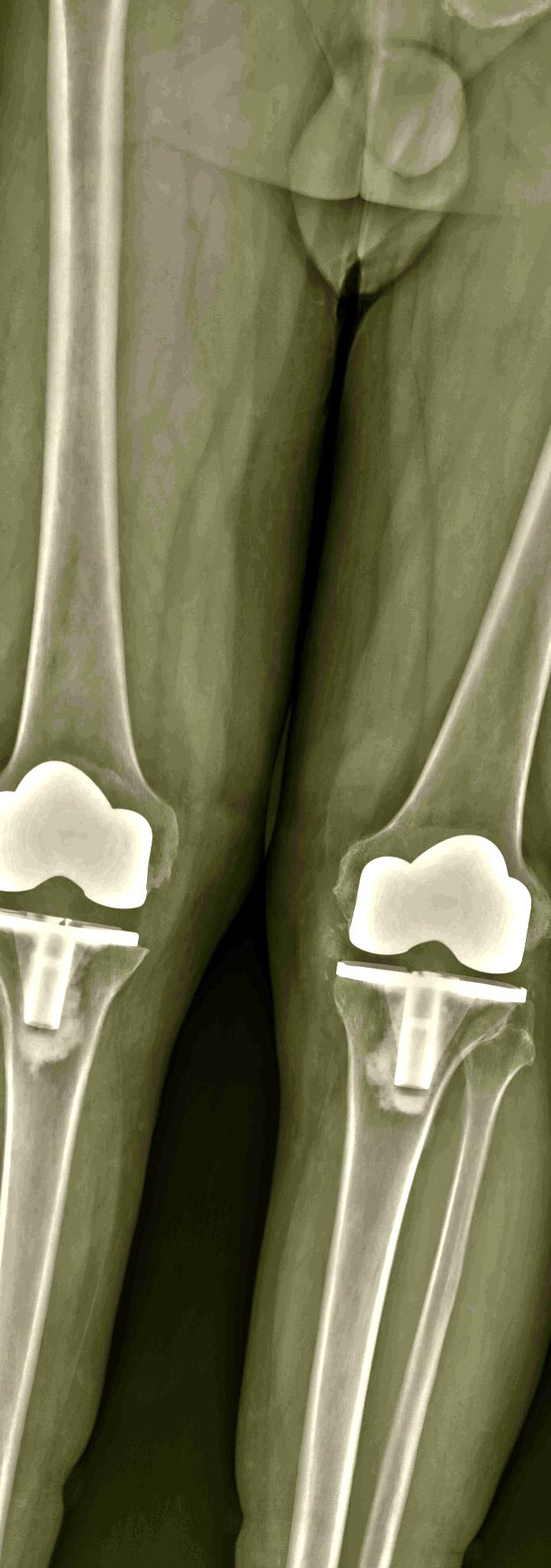Leg Fibula: (359, 1037, 533, 1568)
Leg Tibia: (287, 963, 525, 1568), (0, 910, 145, 1547)
femur: (0, 0, 178, 911), (338, 443, 551, 975)
